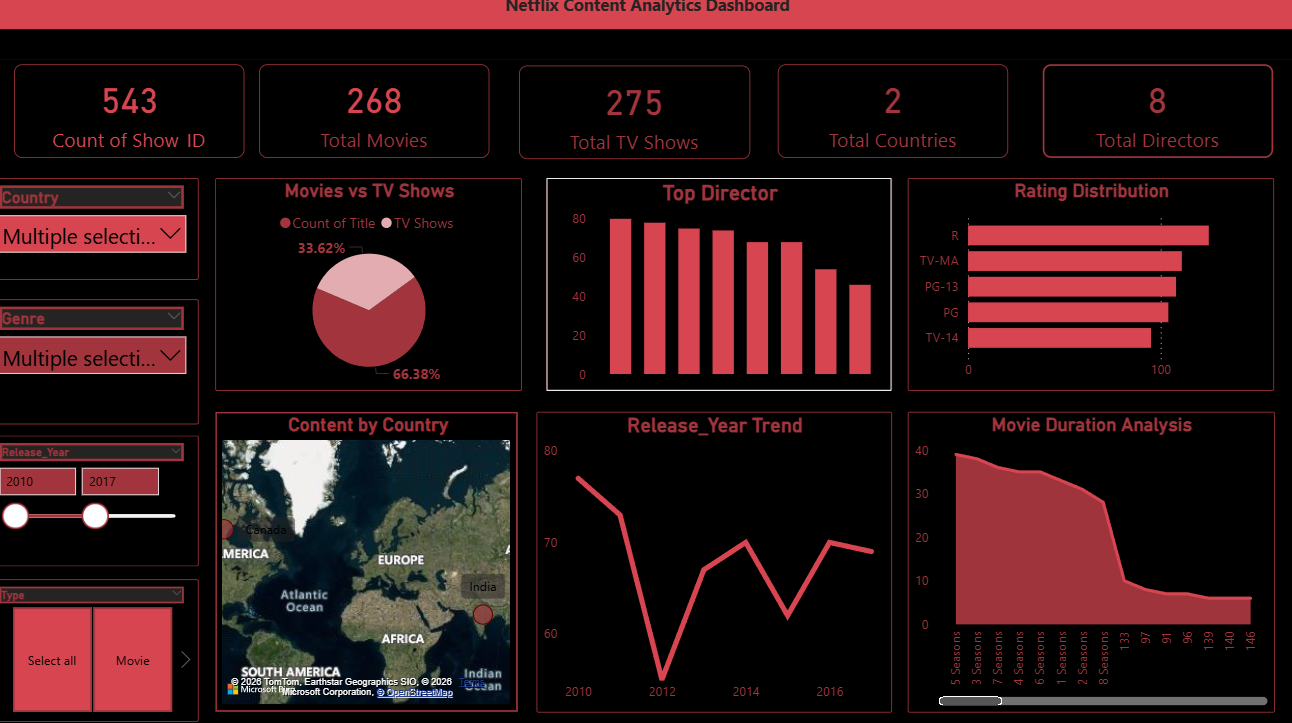

The dashboard page shown, as its layout file describes it:
{"tool":"powerbi","page":{"name":"Page 1","canvas":[1280,720],"ordinal":0},"visuals":[{"type":"card","fields":{"Values":["CountNonNull(Netflix Dashboard.Show_ID)"]},"box":[28.8,74.1,222.3,90.6],"z":0},{"type":"slicer","fields":{"Values":["netflix.Country"]},"box":[0,183.9,207.2,98.8],"z":1000},{"type":"actionButton","box":[0,0,100,40],"z":2000},{"type":"pieChart","title":"Movies vs TV Shows","fields":{"Y":["CountNonNull(netflix.Title)","netflix.TV Shows"]},"box":[223.7,183.9,296.4,205.8],"z":3000},{"type":"map","title":"Content by Country","fields":{"Category":["netflix.Country"],"Size":["CountNonNull(netflix.Show_ID)"]},"box":[223.7,408.9,292.3,289.5],"z":4000},{"type":"card","fields":{"Values":["netflix.Total Movies"]},"box":[264.8,74.1,222.3,90.6],"z":5000},{"type":"card","fields":{"Values":["netflix.Total Countries"]},"box":[765.7,74.1,222.3,90.6],"z":6000},{"type":"card","fields":{"Values":["netflix.Total Directors"]},"box":[1022.3,74.1,222.3,90.6],"z":7000},{"type":"textbox","box":[0,0,1280,40],"z":8000},{"type":"shape","box":[0,39.8,1280.3,28.8],"z":9000},{"type":"slicer","fields":{"Values":["netflix.Genre"]},"box":[0,300.5,207.2,120.8],"z":10000},{"type":"slicer","fields":{"Values":["netflix.Release_Year"]},"box":[0,432.2,207.2,126.2],"z":11000},{"type":"slicer","fields":{"Values":["netflix.Type"]},"box":[0,570.8,207.2,137.2],"z":12000},{"type":"card","fields":{"Values":["netflix.Total TV Shows"]},"box":[515.9,74.3,222.8,90.5],"z":13000},{"type":"clusteredColumnChart","title":"Top Director","fields":{"Category":["netflix.Director"],"Y":["CountNonNull(netflix.Show_ID)"]},"box":[542.5,183.8,333.8,205],"z":14000},{"type":"barChart","title":"Rating Distribution","fields":{"Category":["netflix.Rating"],"Y":["CountNonNull(netflix.Show_ID)"]},"box":[891.3,183.7,353.8,205.3],"z":15000},{"type":"lineChart","title":"Release_Year Trend","fields":{"Category":["netflix.Release_Year"],"Y":["CountNonNull(netflix.Show_ID)"]},"box":[533.4,409.2,343,290.4],"z":16000},{"type":"areaChart","title":"Movie Duration Analysis","fields":{"Category":["netflix.Duration"],"Y":["CountNonNull(netflix.Show_ID)"]},"box":[891,409,354,290],"z":17000}]}

Visuals, with their boxes in screenshot pixels (x1, y1, x2, y2), scaled from the page's 1280x720 canvas onto the 1292x723 screenshot:
card - CountNonNull(Netflix Dashboard.Show_ID): {"x1": 29, "y1": 74, "x2": 253, "y2": 165}
slicer - netflix.Country: {"x1": 0, "y1": 185, "x2": 209, "y2": 284}
actionButton: {"x1": 0, "y1": 0, "x2": 101, "y2": 40}
"Movies vs TV Shows" pieChart: {"x1": 226, "y1": 185, "x2": 525, "y2": 391}
"Content by Country" map: {"x1": 226, "y1": 411, "x2": 521, "y2": 701}
card - netflix.Total Movies: {"x1": 267, "y1": 74, "x2": 492, "y2": 165}
card - netflix.Total Countries: {"x1": 773, "y1": 74, "x2": 997, "y2": 165}
card - netflix.Total Directors: {"x1": 1032, "y1": 74, "x2": 1256, "y2": 165}
textbox: {"x1": 0, "y1": 0, "x2": 1291, "y2": 40}
shape: {"x1": 0, "y1": 40, "x2": 1291, "y2": 69}
slicer - netflix.Genre: {"x1": 0, "y1": 302, "x2": 209, "y2": 423}
slicer - netflix.Release_Year: {"x1": 0, "y1": 434, "x2": 209, "y2": 561}
slicer - netflix.Type: {"x1": 0, "y1": 573, "x2": 209, "y2": 711}
card - netflix.Total TV Shows: {"x1": 521, "y1": 75, "x2": 746, "y2": 165}
"Top Director" clusteredColumnChart: {"x1": 548, "y1": 185, "x2": 885, "y2": 390}
"Rating Distribution" barChart: {"x1": 900, "y1": 184, "x2": 1257, "y2": 391}
"Release_Year Trend" lineChart: {"x1": 538, "y1": 411, "x2": 885, "y2": 703}
"Movie Duration Analysis" areaChart: {"x1": 899, "y1": 411, "x2": 1257, "y2": 702}
